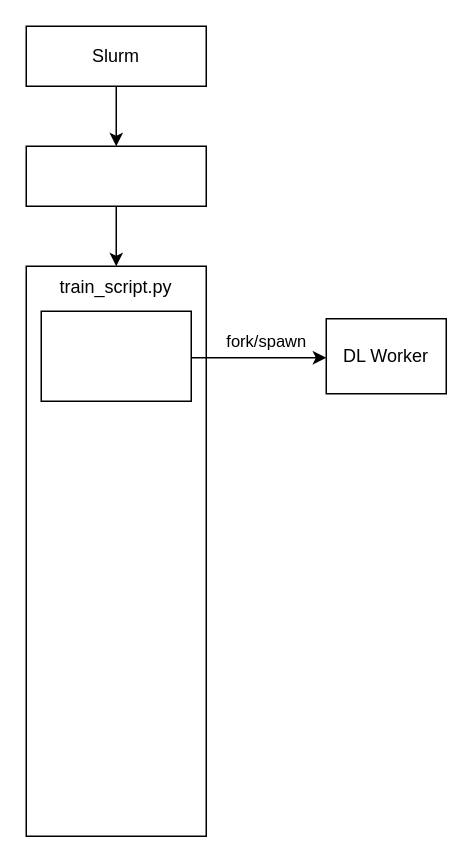
Image size: 473x863. Some labels were removed from this diagram. The centre of each missing label's shape, as x and y in pixels:
"Data loader init" belongs at [115,355].
"torchrun" belongs at [115,175].
